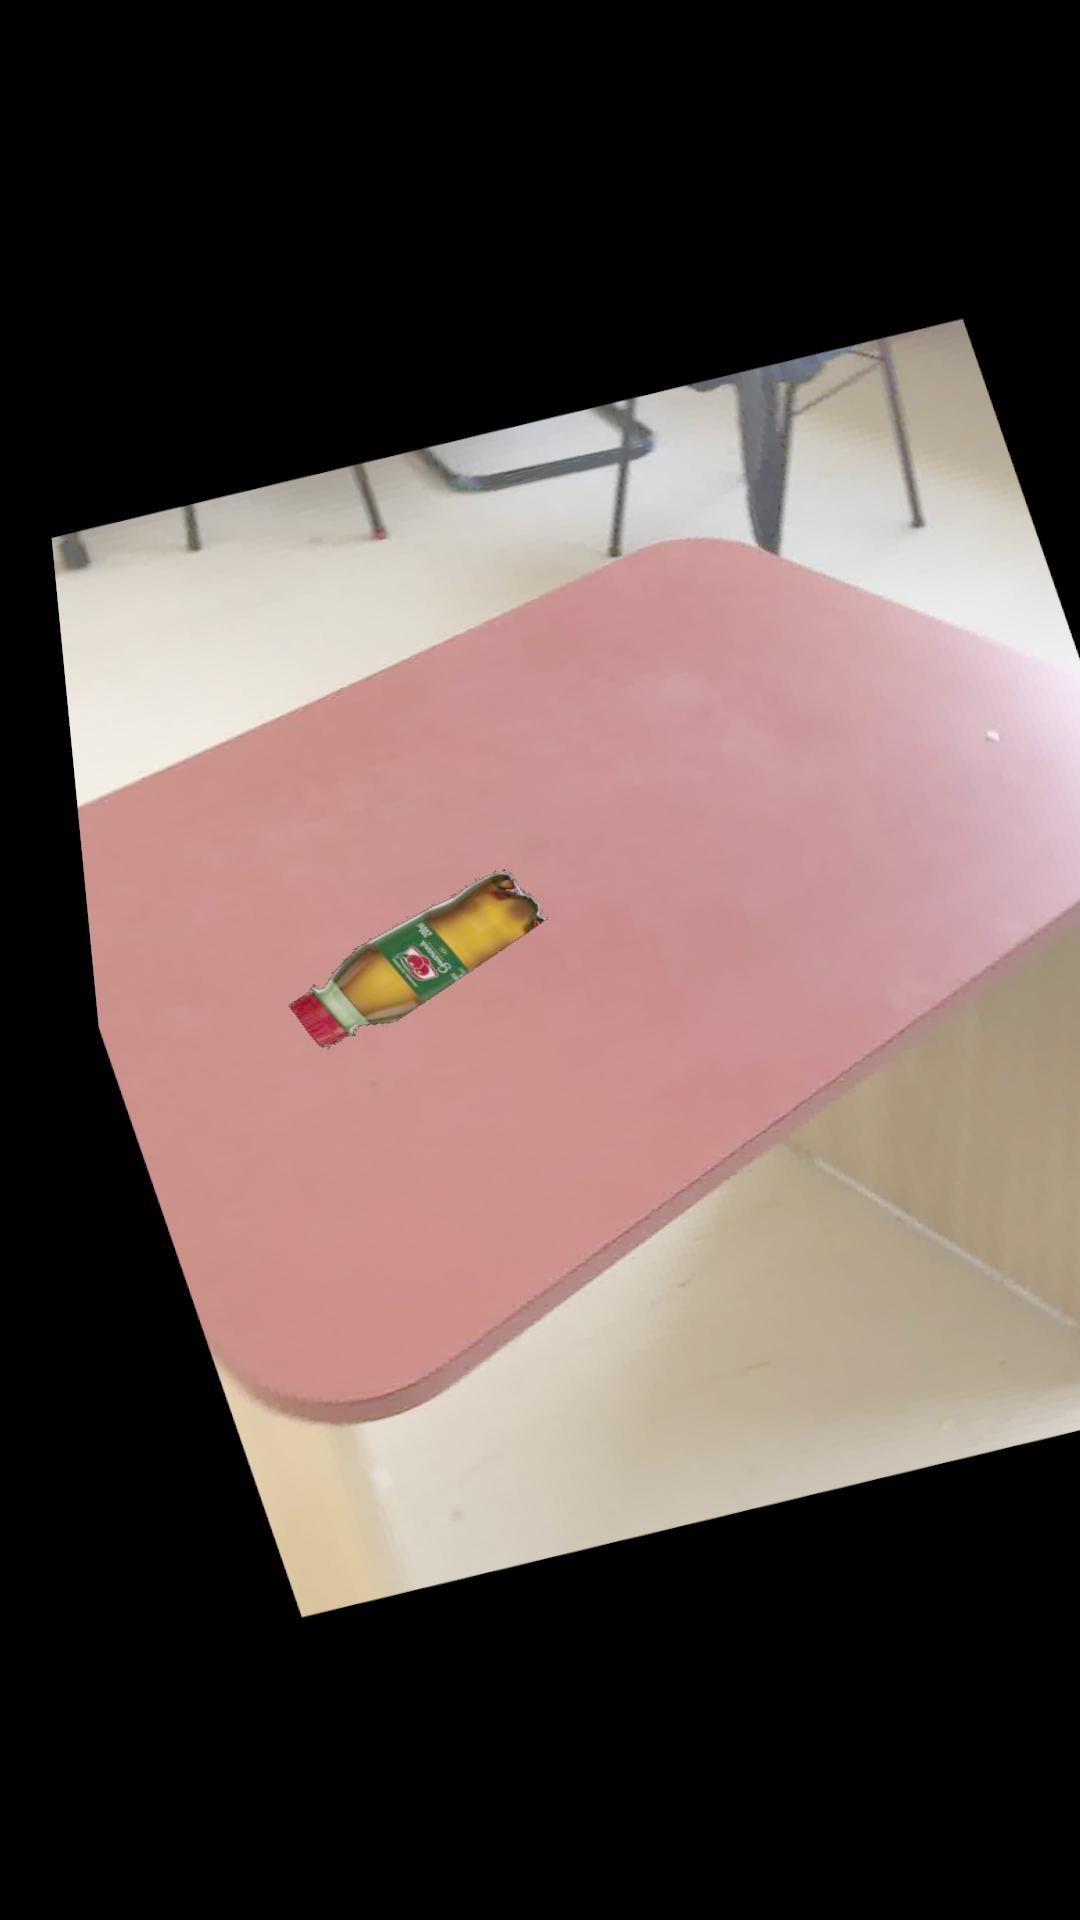guarana: (266, 872, 527, 1050)
